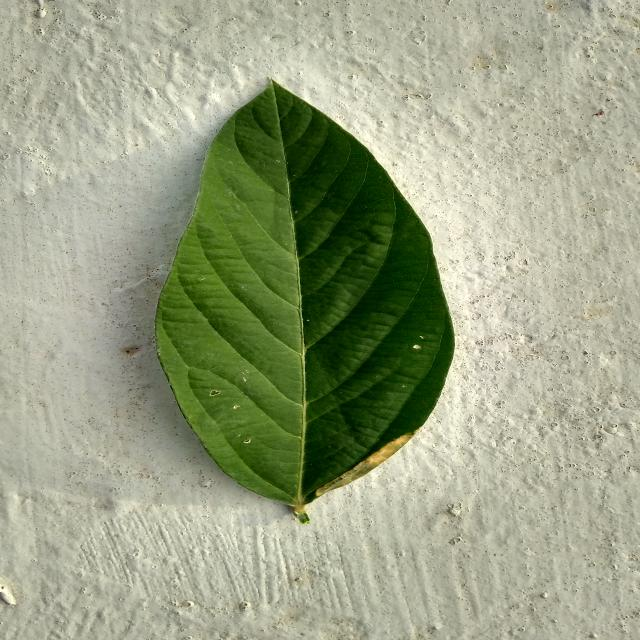pea: (156, 82, 453, 522)
